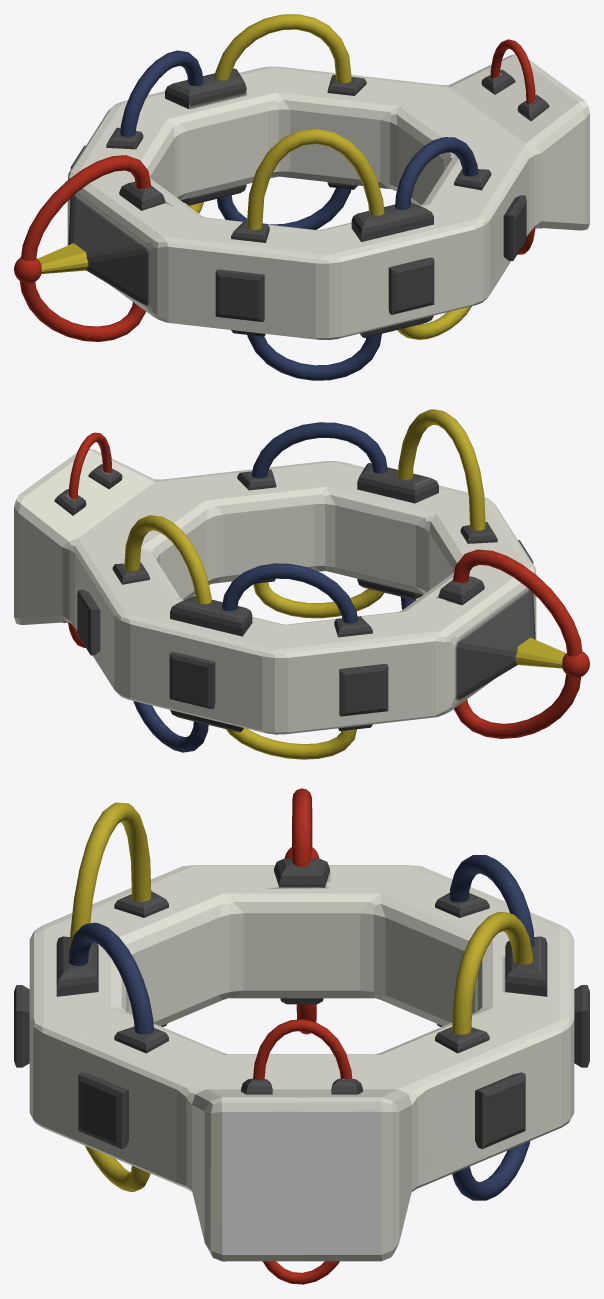
The model's file is SpiderBody.fbx.
3 views of the same model, one above another, from view 1: azimuth 30°, elevation 25°; view 2: azimuth 150°, elevation 25°; view 3: azimuth 270°, elevation 25° (orthographic). The views are drawn at different scales.
Visible parts, largest first — view 1: Cylinder; view 2: Cylinder; view 3: Cylinder.
Part boxes in pixels (left/top/right/bottom): Cylinder: left=14, top=14, right=589, bottom=380; Cylinder: left=14, top=409, right=589, bottom=759; Cylinder: left=14, top=788, right=589, bottom=1284.
Bounding box in the file's own units: 265 × 117 × 195.
